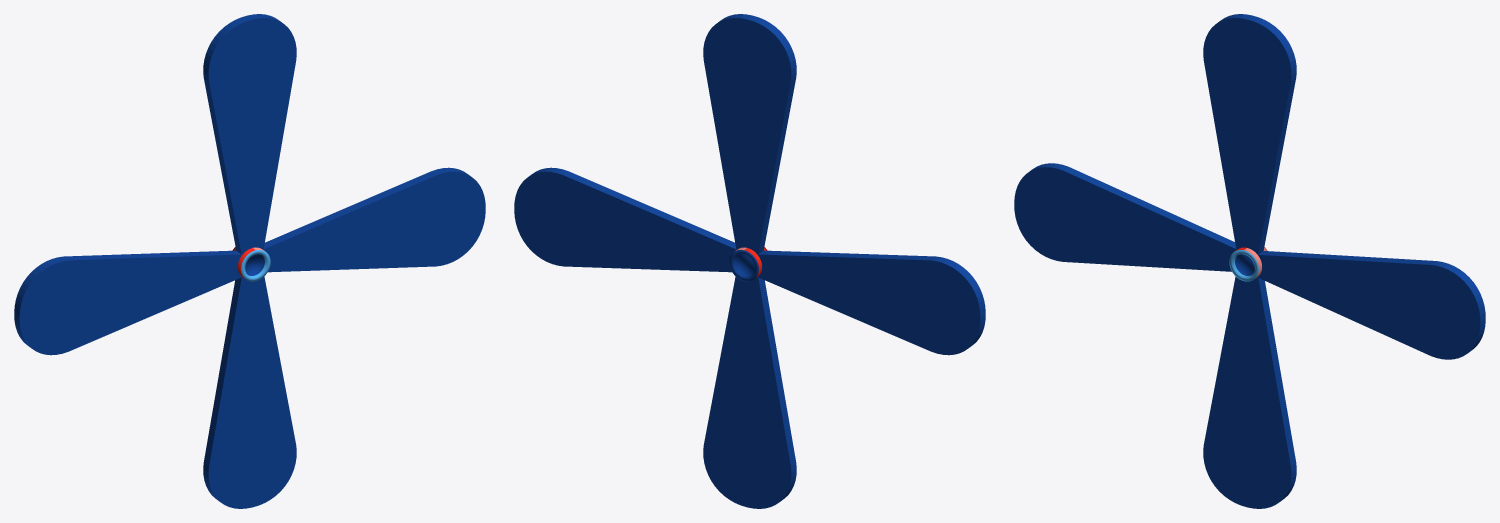
File: Fan.fbx
3 views of the same model, side by side, from view 1: azimuth 30°, elevation 25°; view 2: azimuth 150°, elevation 25°; view 3: azimuth 330°, elevation 25° (orthographic).
Parts seen in each view (by area): view 1: Fan; view 2: Fan; view 3: Fan.
Boxes of the visible parts, x1=… form: Fan: x1=14, y1=14, x2=485, y2=508; Fan: x1=514, y1=14, x2=985, y2=508; Fan: x1=1014, y1=14, x2=1485, y2=508.
Bounding box in the file's own units: 918 × 918 × 40.04.
Materials: 1 (1 with a texture image).
